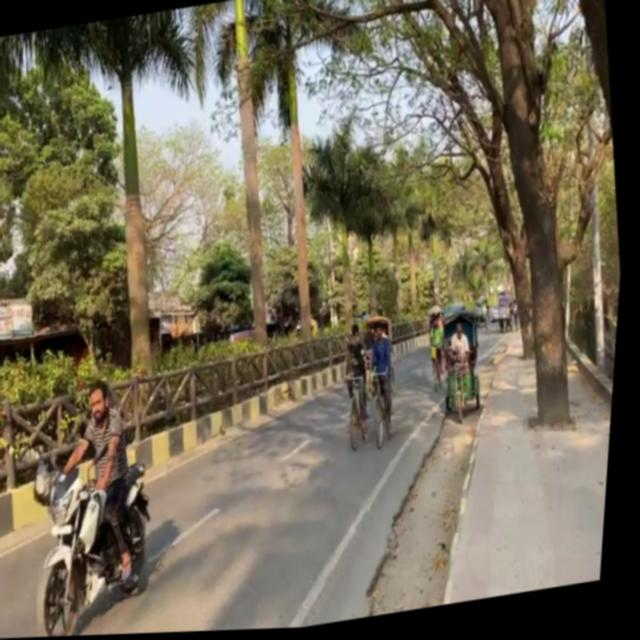Construction-barrier: (416, 333, 548, 609), (562, 331, 622, 457)
Downstairs: (439, 309, 492, 415)
Fallen-tree: (22, 434, 177, 638)
Garbage-bin: (51, 377, 160, 604)
Pothole: (416, 312, 623, 608)
Traffic-cone: (326, 310, 429, 477)
